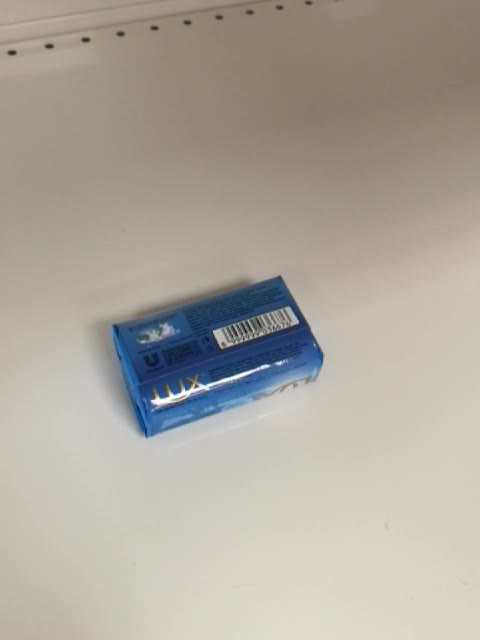soap: (109, 272, 326, 439)
